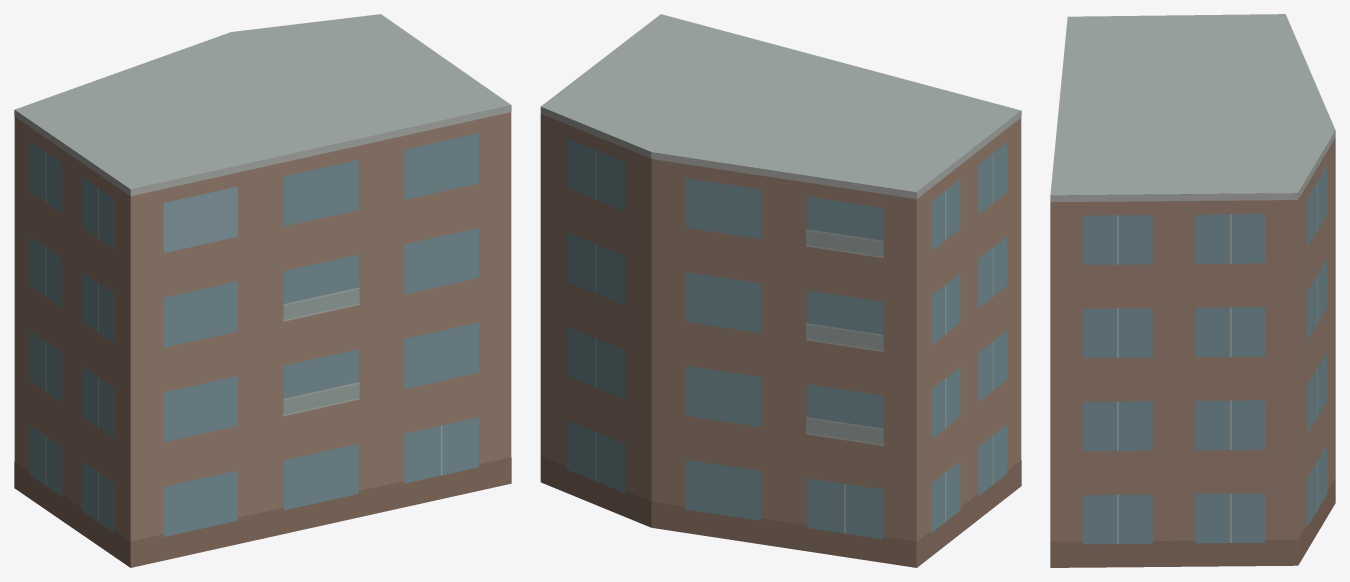
File: survey-upis-32625238.glb
3 renders of one model, left to right at view 1: azimuth 30°, elevation 25°; view 2: azimuth 150°, elevation 25°; view 3: azimuth 270°, elevation 25°, orthographic.
Visible parts, largest first — view 1: survey-upis-32625238.tmp; view 2: survey-upis-32625238.tmp; view 3: survey-upis-32625238.tmp.
Part boxes in pixels (left/top/right/bottom): survey-upis-32625238.tmp: left=14, top=14, right=511, bottom=567; survey-upis-32625238.tmp: left=540, top=14, right=1021, bottom=567; survey-upis-32625238.tmp: left=1050, top=14, right=1335, bottom=567.
Bounding box in the file's own units: 13.78 × 13.2 × 9.17.
